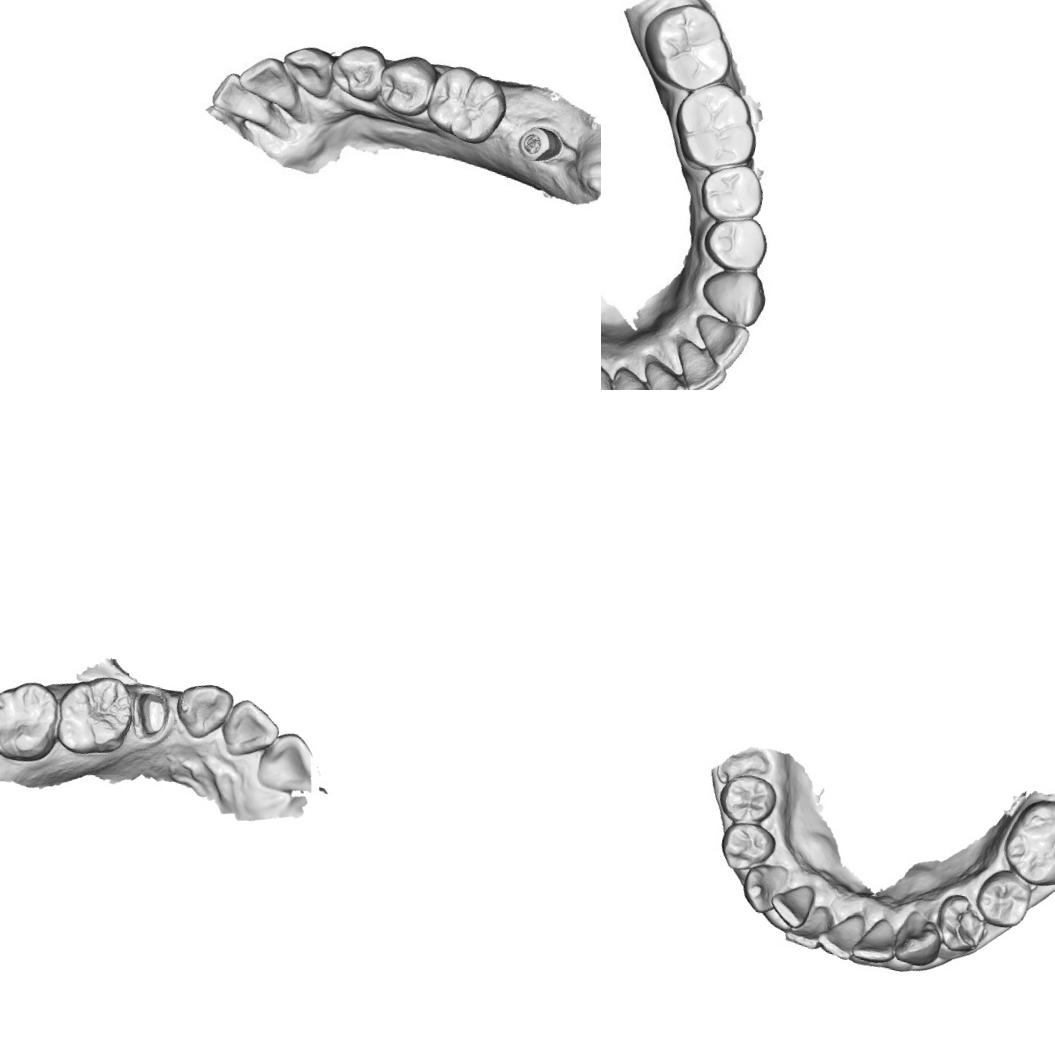canine: (170, 675, 238, 744), (276, 36, 339, 102), (700, 266, 767, 327), (895, 911, 943, 966), (740, 861, 784, 915)
crown: (125, 683, 171, 740)
implant: (512, 116, 568, 168)
incisor: (251, 724, 321, 798), (216, 693, 286, 766), (230, 49, 304, 114), (205, 67, 280, 129), (688, 310, 752, 368), (670, 336, 730, 390), (848, 914, 902, 970), (813, 910, 866, 962), (780, 905, 831, 954), (766, 883, 812, 930), (605, 362, 662, 390), (639, 361, 692, 390)
molar: (416, 56, 514, 150), (668, 76, 760, 175), (48, 665, 140, 764), (642, 0, 732, 93), (0, 671, 66, 768), (998, 795, 1055, 892)
premolar: (371, 48, 440, 122), (700, 212, 775, 276), (700, 162, 768, 222), (326, 39, 388, 103), (932, 892, 992, 958), (716, 818, 780, 878), (974, 868, 1034, 928), (716, 770, 778, 826)
